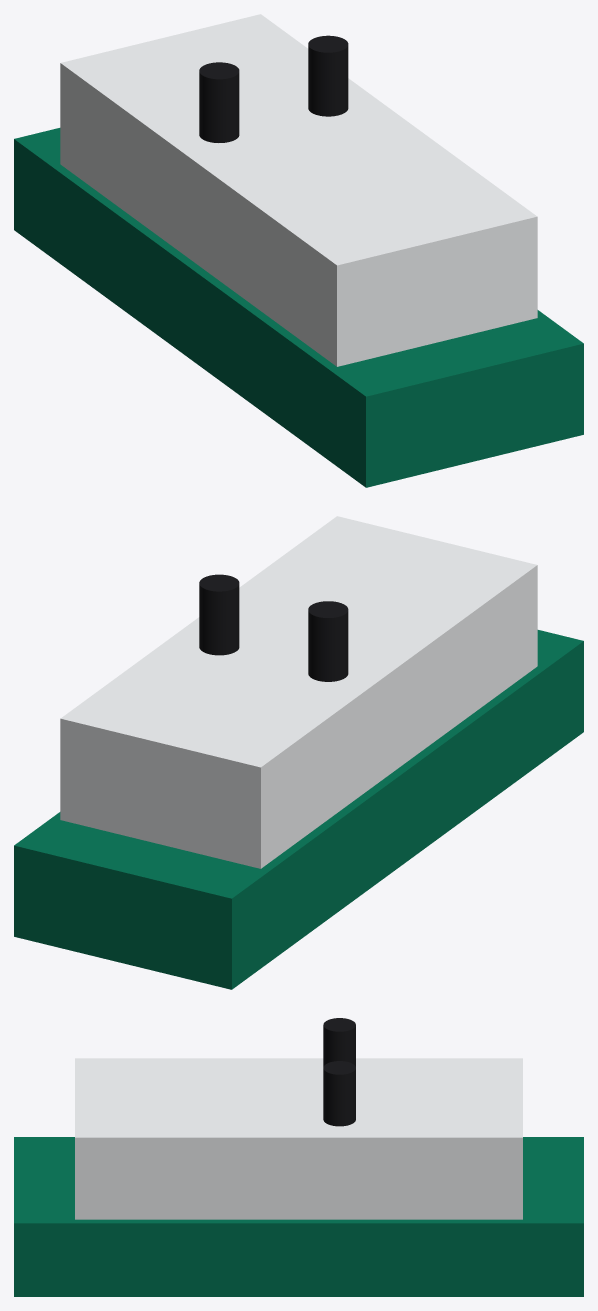
Rendered from ferry.glb.
The picture shows the model from 3 angles, top to bottom: view 1: azimuth 30°, elevation 25°; view 2: azimuth 150°, elevation 25°; view 3: azimuth 270°, elevation 25°; orthographic projection. The views are drawn at different scales.
Size of the model in its own units: 0.3571 by 0.4018 by 1.
